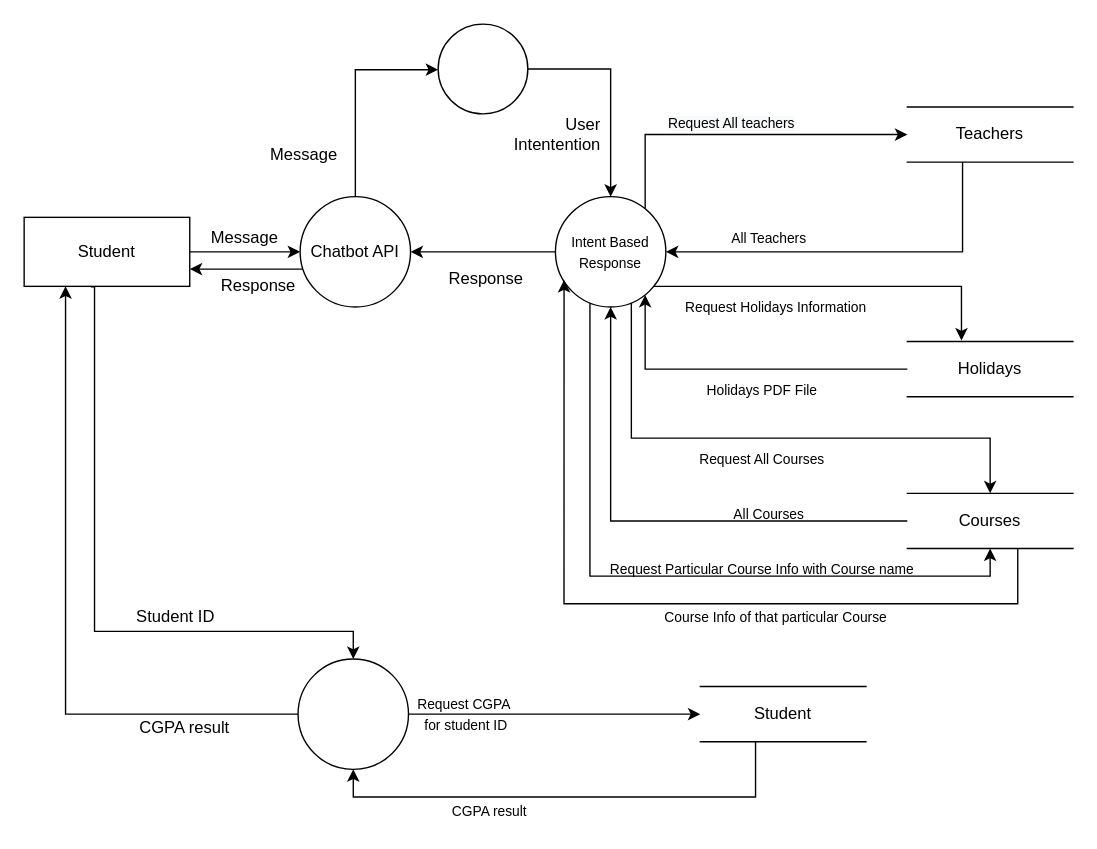
This 1097x849 diagram has some shape labels left out. Here are the shapes that lost their labels. From the top down, the centre of each, then its label:
At [482,68]: "Chatbot Response".
At [352,713]: "Results API".
